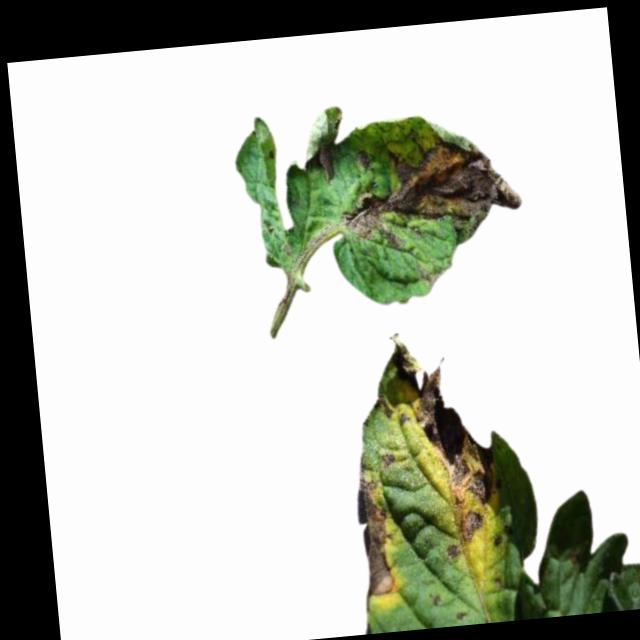Early_blight: (336, 132, 528, 252), (391, 323, 502, 513), (355, 476, 397, 597), (456, 507, 488, 542), (312, 136, 337, 180), (419, 261, 440, 289), (374, 391, 395, 419), (445, 543, 461, 559), (490, 530, 505, 547), (380, 449, 394, 466)
